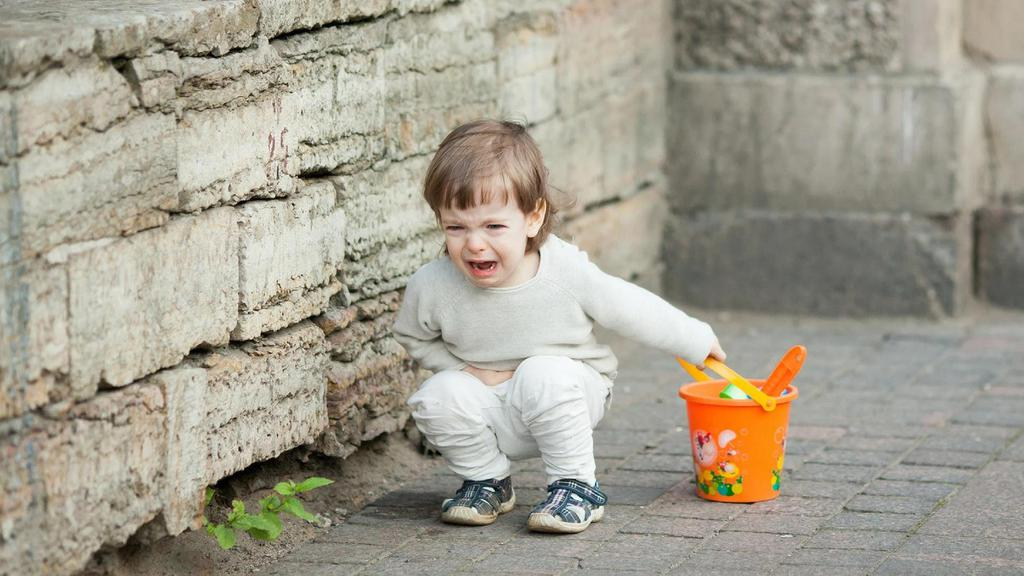child: (361, 105, 730, 537)
